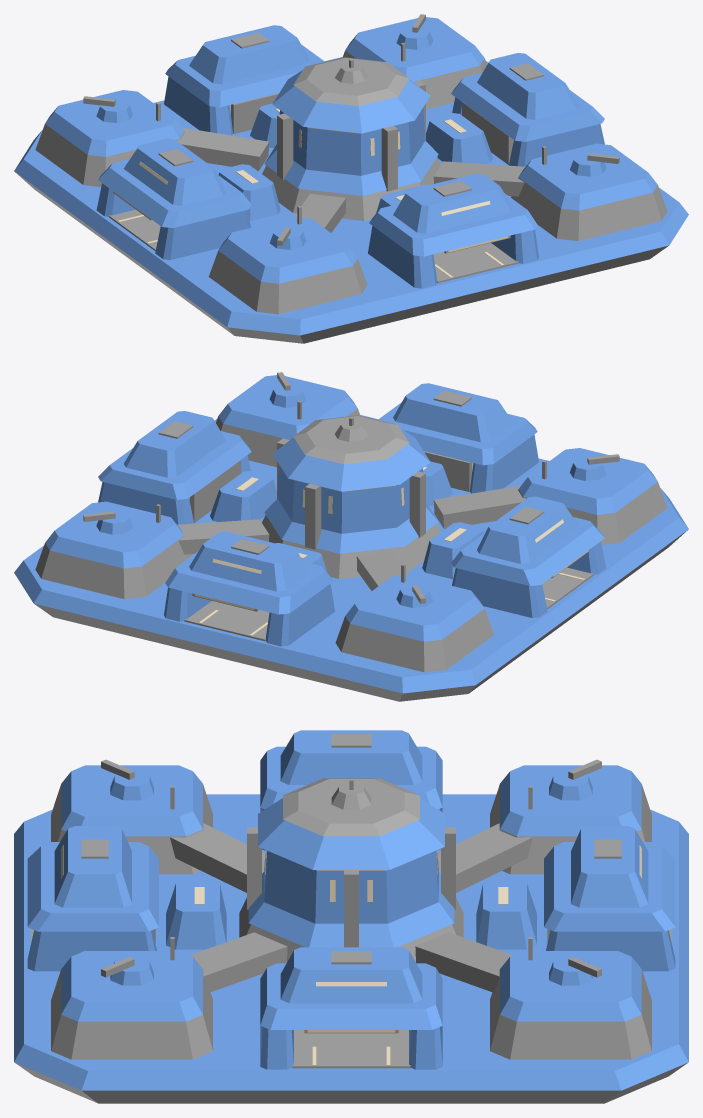
File: CommandStation_L2.glb
3 views of the same model, one above another, from view 1: azimuth 30°, elevation 25°; view 2: azimuth 150°, elevation 25°; view 3: azimuth 270°, elevation 25° (orthographic). The views are drawn at different scales.
Visible parts, largest first — view 1: Citadel deck, Bastion armor cap -1 -1, Bastion armor cap 1 -1, Bastion armor cap -1 1, Undercut armor apron, Bastion armored footing -1 -1, Bastion armor cap 1 1, Command keep, Bastion armored footing 1 -1, Command gallery roof, Logistics gallery 2, Logistics gallery 0 (+34 smaller); view 2: Citadel deck, Bastion armor cap -1 1, Bastion armor cap 1 1, Bastion armor cap -1 -1, Undercut armor apron, Bastion armored footing -1 1, Bastion armor cap 1 -1, Command keep, Bastion armored footing 1 1, Command gallery roof, Logistics gallery 0, Logistics gallery 2 (+34 smaller); view 3: Citadel deck, Bastion armor cap 1 -1, Bastion armor cap 1 1, Command keep, Undercut armor apron, Bastion armor cap -1 -1, Bastion armor cap -1 1, Command gallery roof, Bastion armored footing 1 -1, Bastion armored footing 1 1, Logistics gallery 1, Dock armored roof 0 (+32 smaller).
Boxes of the visible parts, bbox=[...] form: Citadel deck: bbox=[14, 57, 688, 335]; Bastion armor cap -1 -1: bbox=[218, 217, 357, 283]; Bastion armor cap 1 -1: bbox=[518, 143, 657, 210]; Bastion armor cap -1 1: bbox=[45, 90, 184, 156]; Undercut armor apron: bbox=[15, 172, 668, 343]; Bastion armored footing -1 -1: bbox=[208, 250, 367, 314]; Bastion armor cap 1 1: bbox=[345, 17, 484, 81]; Command keep: bbox=[279, 108, 425, 175]; Bastion armored footing 1 -1: bbox=[511, 177, 667, 241]; Command gallery roof: bbox=[272, 70, 430, 133]; Logistics gallery 2: bbox=[189, 25, 309, 84]; Logistics gallery 0: bbox=[393, 173, 513, 233]; Citadel deck: bbox=[14, 415, 688, 693]; Bastion armor cap -1 1: bbox=[345, 575, 484, 641]; Bastion armor cap 1 1: bbox=[45, 501, 184, 568]; Bastion armor cap -1 -1: bbox=[518, 448, 657, 514]; Undercut armor apron: bbox=[34, 530, 687, 701]; Bastion armored footing -1 1: bbox=[335, 608, 494, 672]; Bastion armor cap 1 -1: bbox=[218, 375, 357, 439]; Command keep: bbox=[277, 466, 423, 533]; Bastion armored footing 1 1: bbox=[35, 535, 191, 599]; Command gallery roof: bbox=[272, 428, 430, 491]; Logistics gallery 0: bbox=[393, 383, 513, 442]; Logistics gallery 2: bbox=[189, 531, 309, 591]; Citadel deck: bbox=[14, 794, 688, 1090]; Bastion armor cap 1 -1: bbox=[61, 951, 202, 1021]; Bastion armor cap 1 1: bbox=[500, 951, 641, 1021]; Command keep: bbox=[264, 850, 438, 923]; Undercut armor apron: bbox=[15, 1063, 687, 1103]; Bastion armor cap -1 -1: bbox=[61, 765, 202, 836]; Bastion armor cap -1 1: bbox=[500, 765, 641, 836]; Command gallery roof: bbox=[258, 798, 444, 869]; Bastion armored footing 1 -1: bbox=[51, 969, 212, 1059]; Bastion armored footing 1 1: bbox=[490, 969, 651, 1059]; Logistics gallery 1: bbox=[280, 947, 422, 1003]; Dock armored roof 0: bbox=[27, 842, 158, 931].
Bounding box in the file's own units: 200 × 81 × 200.
